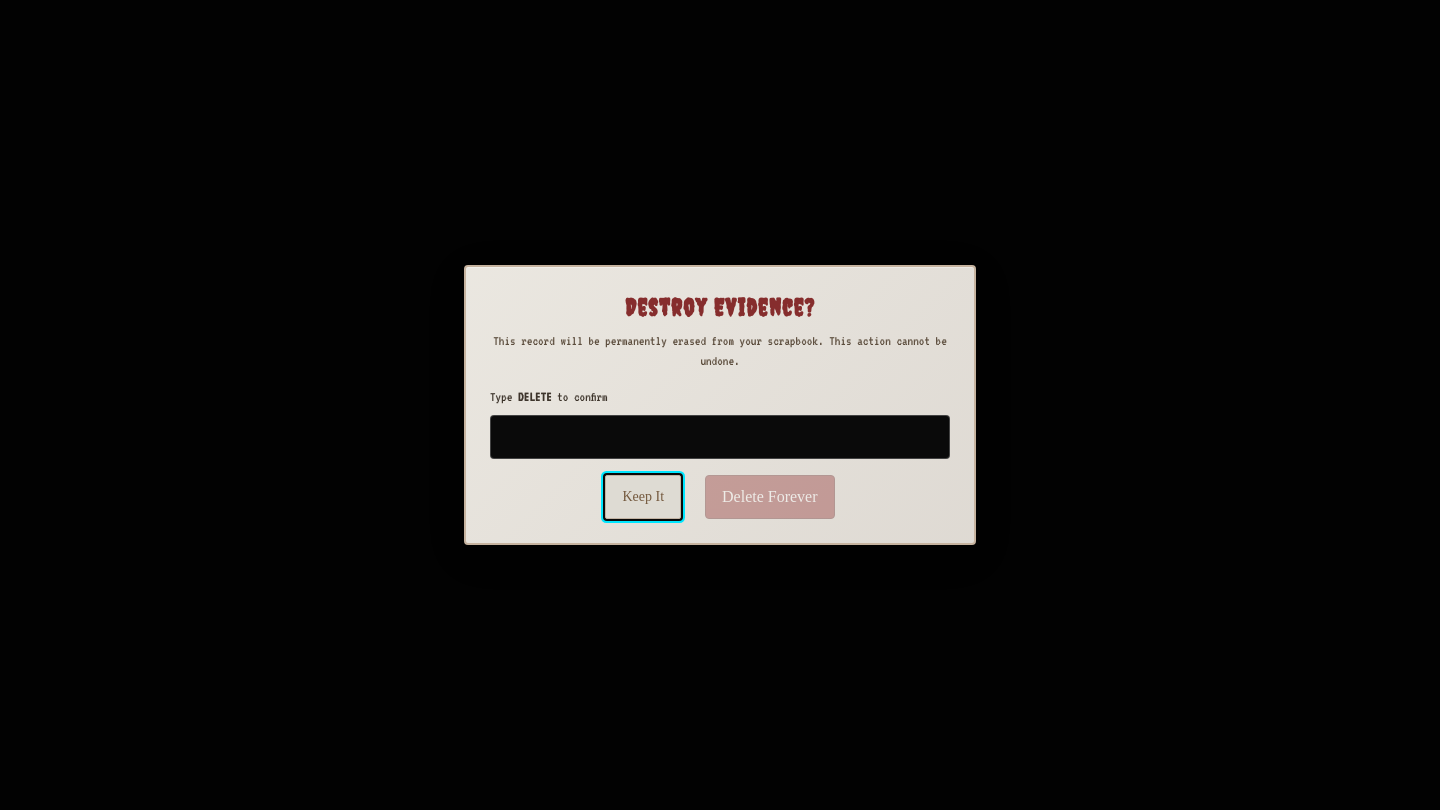
Test: keeps a failed deletion open and prevents repeated submissions while pending
The image size is (1440, 810).
Later steps or results of the test are not shown.
Type "DELETE" into the field labelled "Type DELETE to confirm" at (720, 437), box [490,415,950,459]
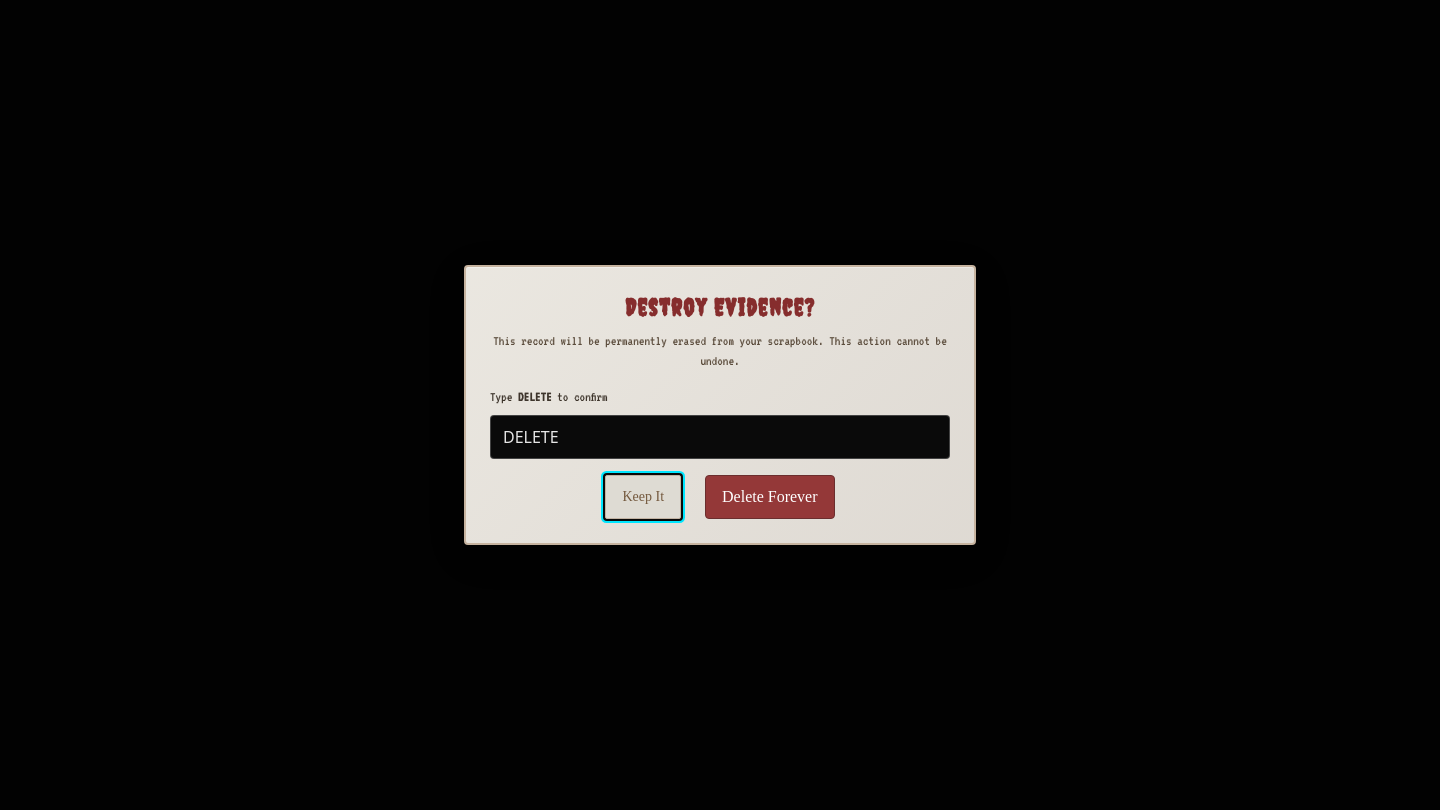
Click the button "Delete Forever" at (770, 497), box [705,475,834,519]
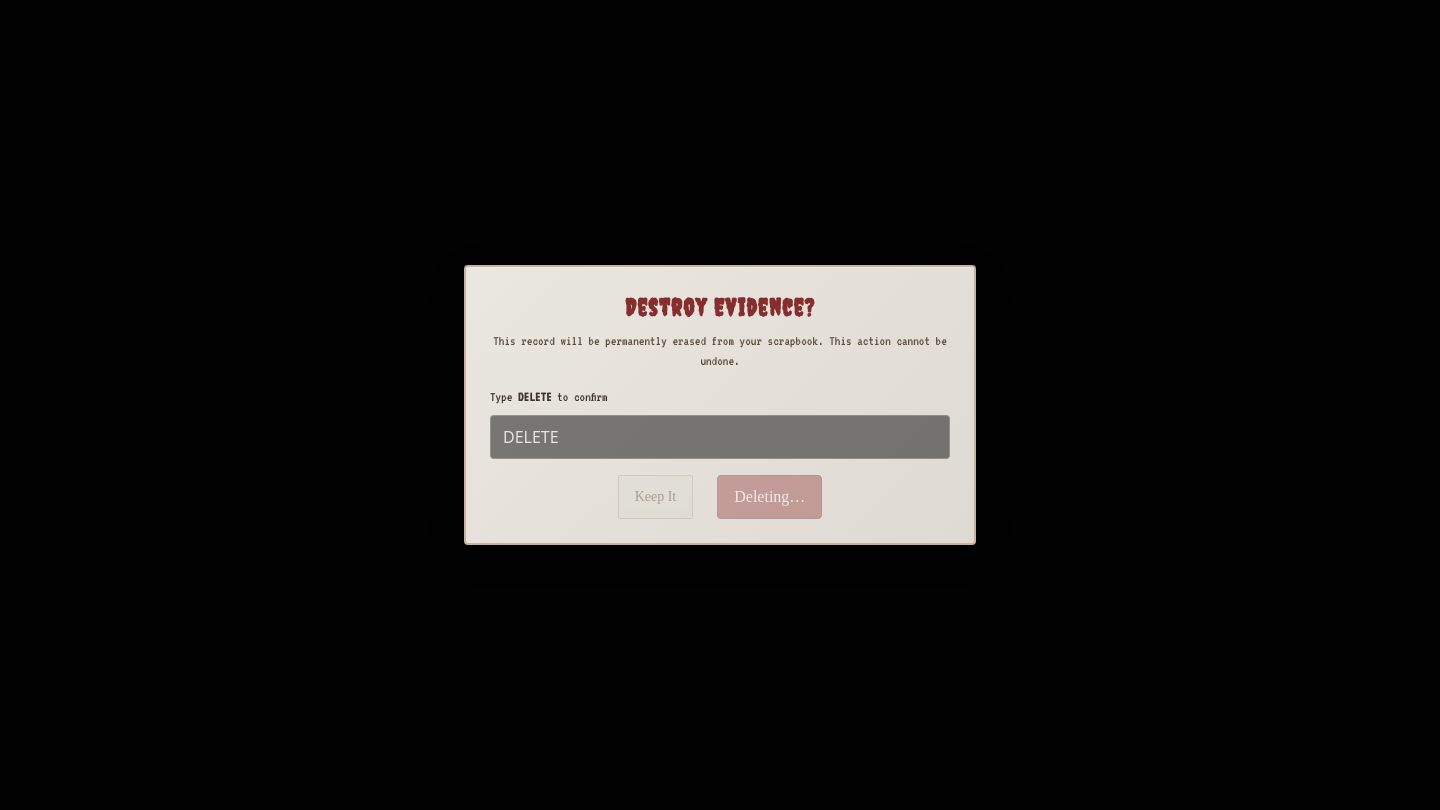
Click the button named "Delete Forever" at (770, 497), box [717,475,822,519]
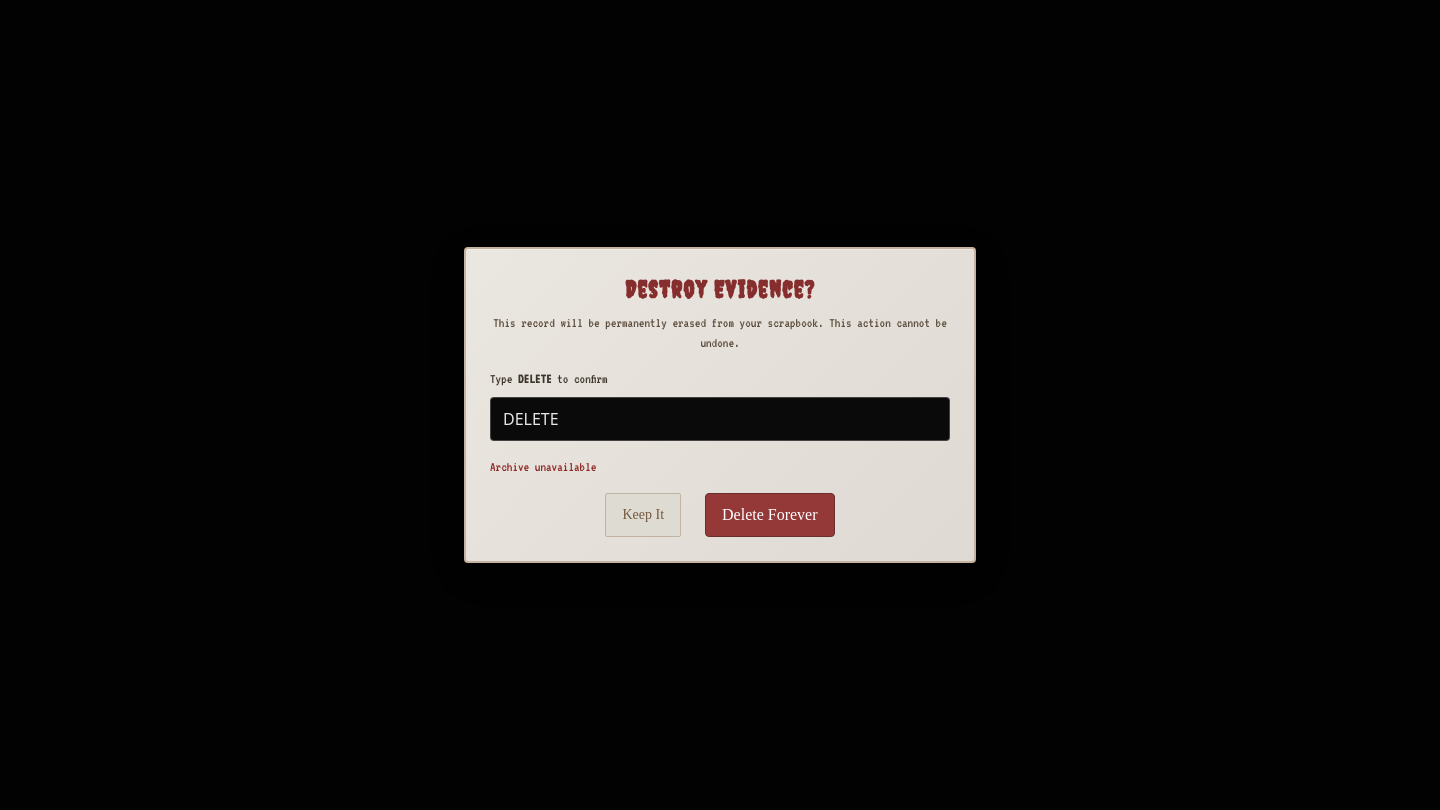
Check: the message reads "Archive unavailable", box [490,460,596,474]
Check: the button "Delete Forever" is enabled, box [705,493,834,537]
